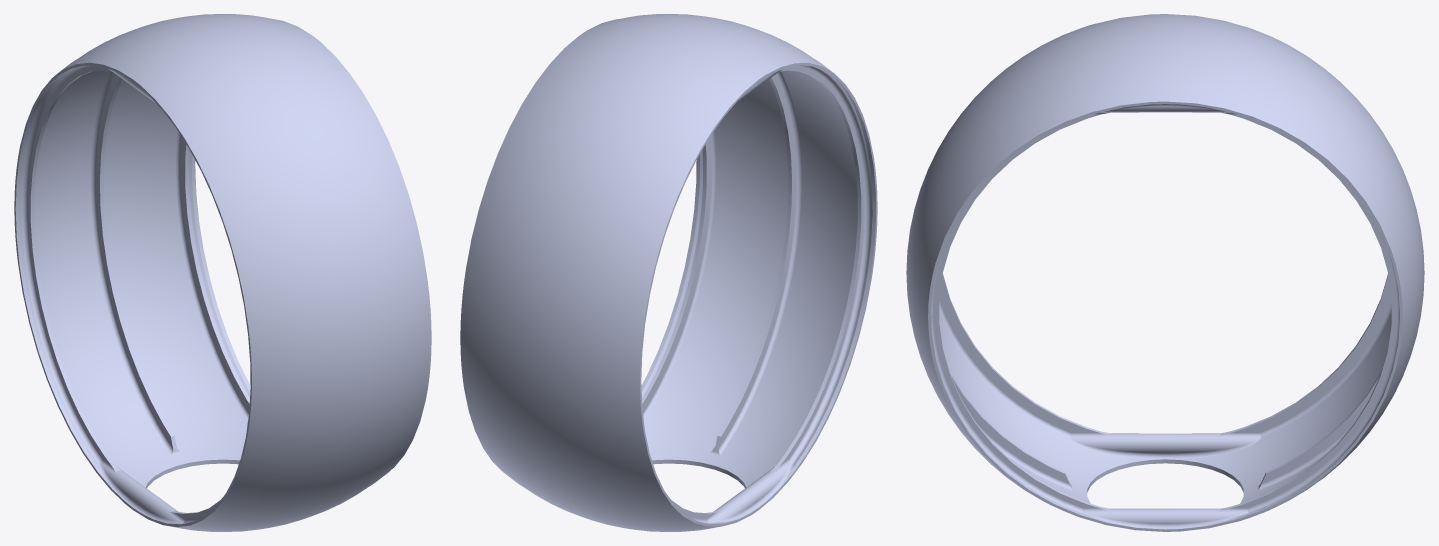
File: hip.dae
The picture shows the model from 3 angles, left to right: view 1: azimuth 30°, elevation 25°; view 2: azimuth 150°, elevation 25°; view 3: azimuth 270°, elevation 25°; orthographic projection.
Parts seen in each view (by area): view 1: Body_1; view 2: Body_1; view 3: Body_1.
Boxes of the visible parts, left/top/right/bottom form: Body_1: left=14, top=14, right=431, bottom=531; Body_1: left=460, top=14, right=877, bottom=531; Body_1: left=906, top=14, right=1424, bottom=531.
Size of the model in its own units: 0.1 by 0.25 by 0.2441.
